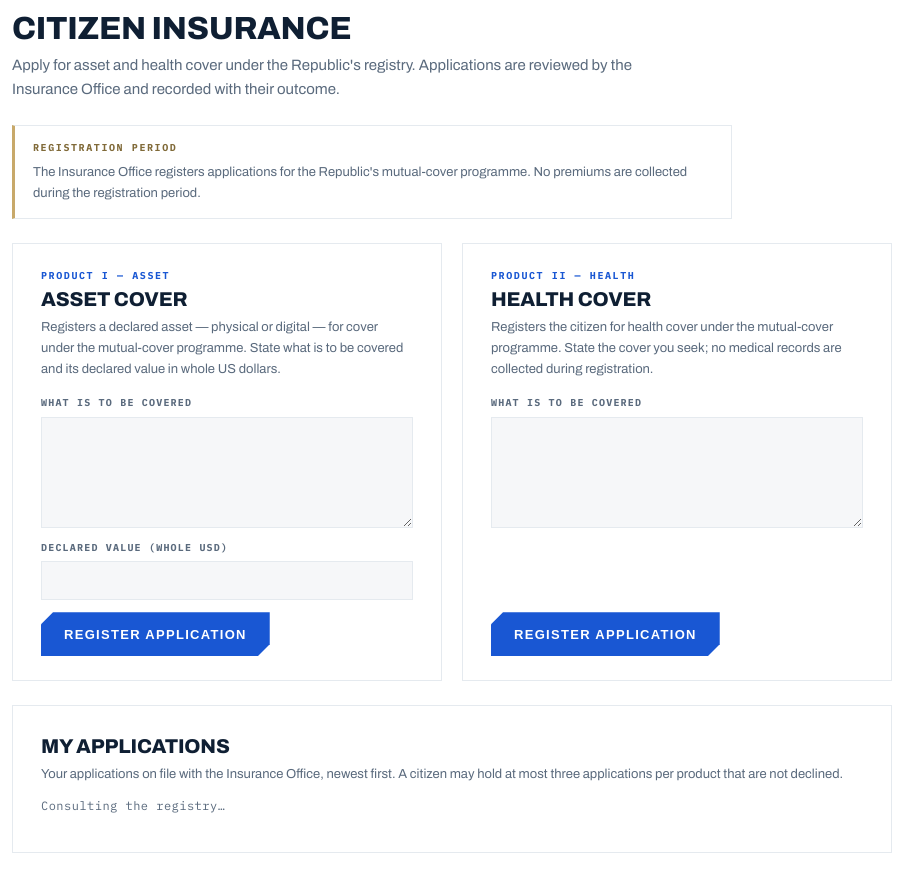
Test: InsuranceApp › surfaces the API's error verbatim (e.g. the 3-application cap)
Step 1. Type "Standard citizen health cover." into the text box labelled "What is to be covered" below "Product II — Health" → (677, 472), box x1=491 y1=417 x2=863 y2=528
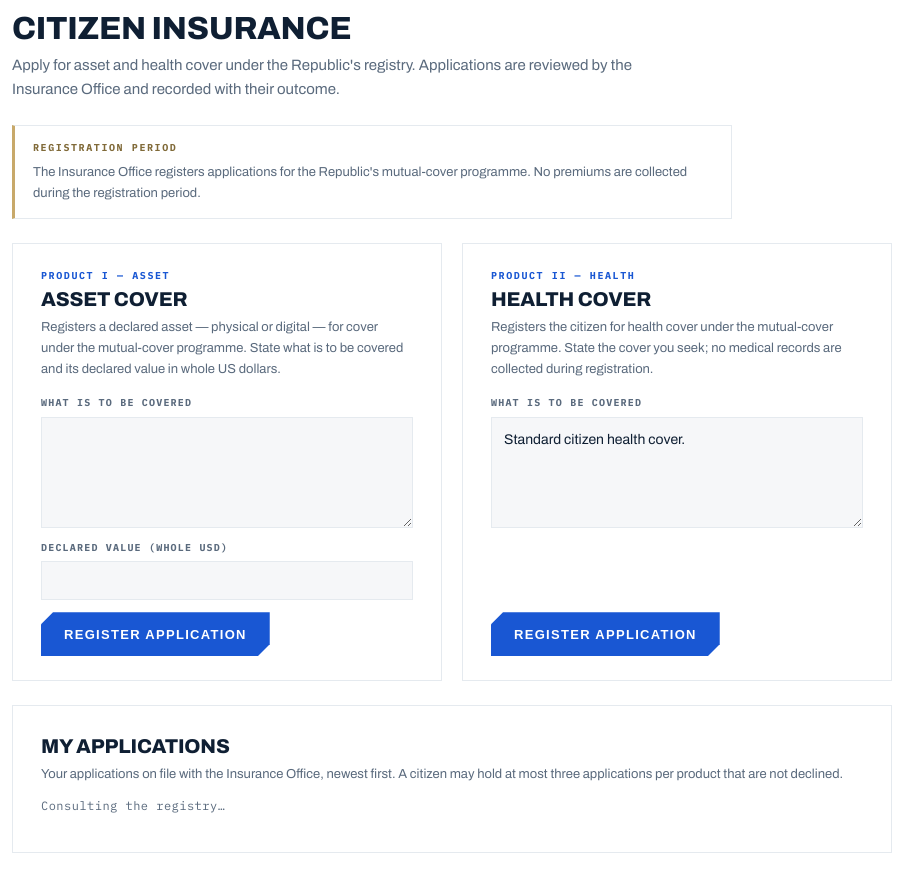
Step 2. Click the button with test id "insurance-apply-HEALTH" → (605, 634), box x1=491 y1=612 x2=720 y2=656
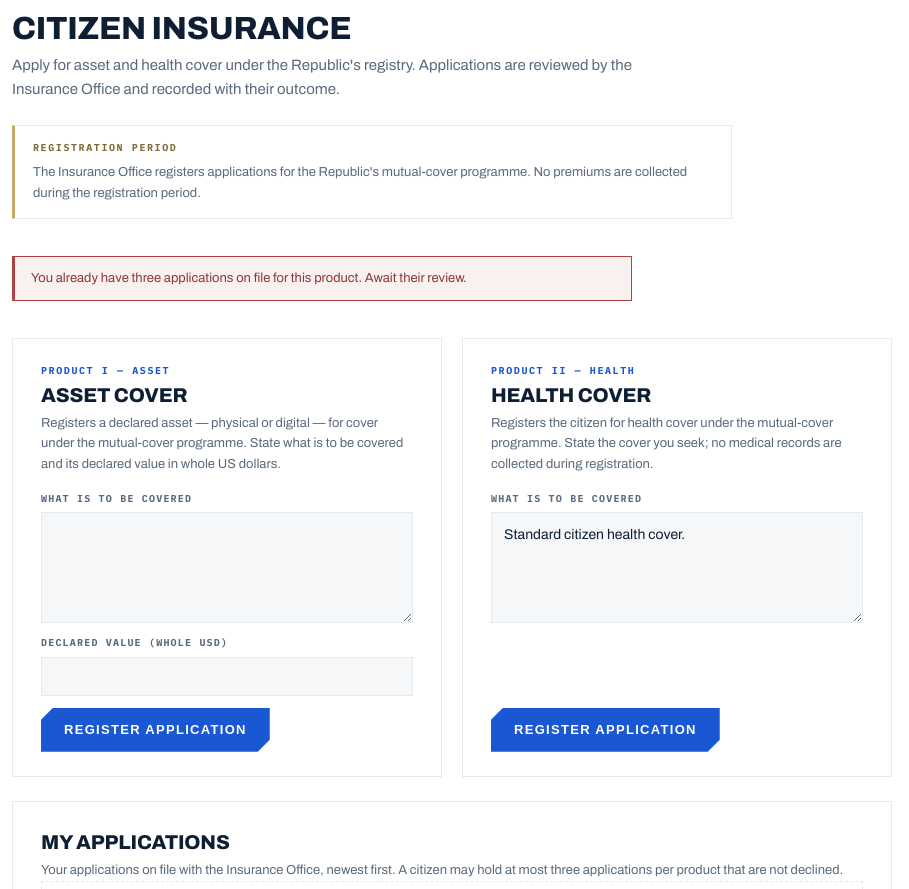
Check: the message with test id "insurance-error" is shown, box x1=12 y1=256 x2=632 y2=301
Check: the message with test id "insurance-error" shows "three applications", box x1=31 y1=271 x2=467 y2=285
